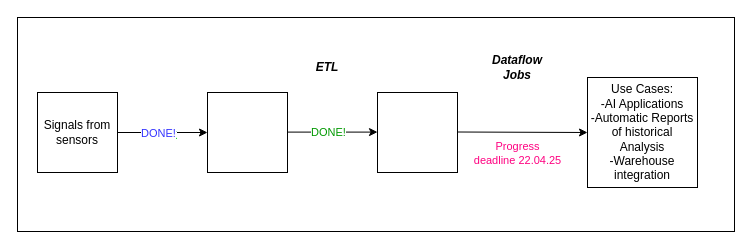
Some shapes in this 752 by 249 pixel diagram are drawn without their labels. The shapes that lost their labels are listed below. From the top down, each one's centre as x and y in pixels, then its label:
the point at 247,132: CtrlX
the point at 417,132: Data Base
